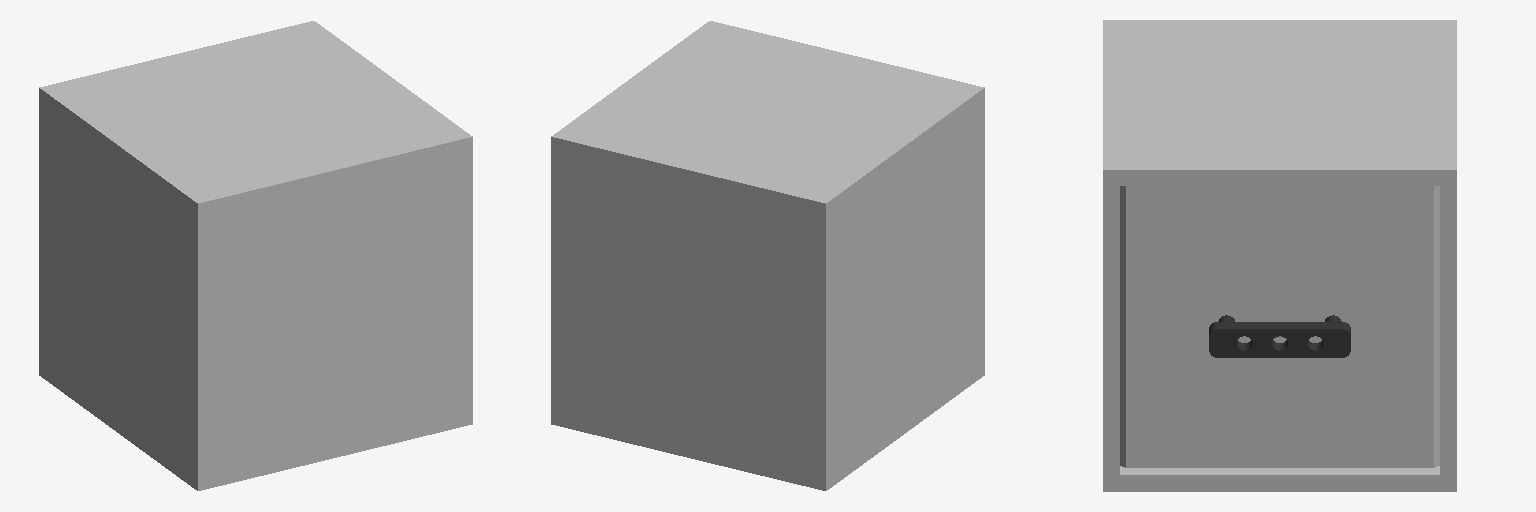
robot.urdf — SlidingBoxDrawer:
<?xml version="1.0" ?>

<robot name="SlidingBoxDrawer">
  <link name="outer_box">
    <visual>
      <origin rpy="0 0 0" xyz="0 0 0"/>
      <geometry>
        <mesh filename="OuterBox.dae"/>
      </geometry>
    </visual>
    <collision>
      <origin rpy="0 0 0" xyz="0 0 0"/>
      <geometry>
        <mesh filename="OuterBoxACD.obj"/>
      </geometry>
    </collision>
    <inertial>
      <mass value="0.5"/>
      <origin rpy="0 0 0" xyz="0.0 0.0 0.0"/>
      <inertia ixx="0.00443333156" ixy="0.0" ixz="0.0" iyy="0.00443333156" iyz="0.0" izz="0.0072"/>
    </inertial>
  </link>
  <link name="inner_box">
    <visual>
      <origin rpy="0 0 0" xyz="0 0 0"/>
      <geometry>
        <mesh filename="InnerBox.dae"/>
      </geometry>
    </visual>
    <collision>
      <origin rpy="0 0 0" xyz="0 0 0"/>
      <geometry>
        <mesh filename="InnerBoxACD.obj"/>
      </geometry>
    </collision>
    <inertial>
      <mass value="0.2"/>
      <origin rpy="0 0 0" xyz="0.0 0.0 0.0"/>
      <inertia ixx="0.00443333156" ixy="0.0" ixz="0.0" iyy="0.00443333156" iyz="0.0" izz="0.0072"/>
    </inertial>
  </link>
  <link name="handle_xpos" />

  <joint name="slide_rails" type="prismatic">
    <origin rpy="0 0 0" xyz="0.0 0 0.0"/>
    <parent link="outer_box"/>
    <child link="inner_box"/>
    <axis xyz="1 0 0"/>
    <limit effort="25.0" acceleration="5.0" lower="0.0" upper="0.2" velocity="1.0"/>
  </joint>

  <joint name="fixed_handle" type="fixed">
    <origin rpy="0 -1.5707963267 0" xyz="0.105 0.0 0.1"/>
    <parent link="inner_box"/>
    <child link="handle_xpos"/>
    <axis xyz="1 0 0"/>
  </joint>

</robot>

--- Facts derived from the render (not from the file) ---
The picture shows the robot from 3 angles, left to right: view 1: azimuth 30°, elevation 25°; view 2: azimuth 150°, elevation 25°; view 3: azimuth 270°, elevation 25°; orthographic projection.
Robot: SlidingBoxDrawer — 3 links, 2 joints (1 prismatic, 1 fixed); root link outer_box; default pose: every joint at zero.
Links seen in each view (by area): view 1: outer_box; view 2: outer_box; view 3: inner_box, outer_box.
Boxes of the visible links, box(x1,y1,x2,y2) form: outer_box: box(39, 21, 472, 490); outer_box: box(551, 21, 984, 490); inner_box: box(1120, 186, 1439, 467); outer_box: box(1103, 20, 1456, 491).
Bounding box of the posed robot: 0.217 × 0.2 × 0.2 m (x, y, z).
Meshes: 2 distinct files referenced, 2 mesh visuals loaded (2 Collada DAE).
